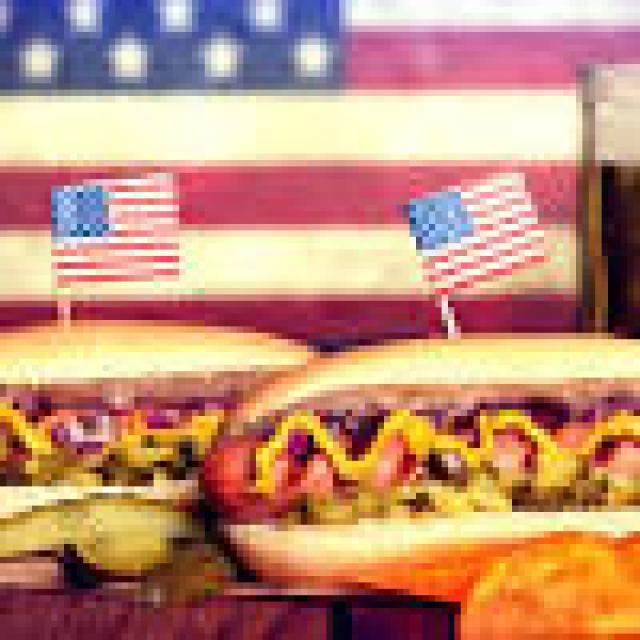Hot Dog: (205, 370, 640, 586)
